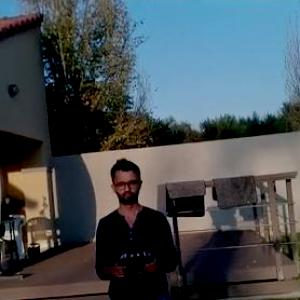follow: (90, 148, 184, 299)
